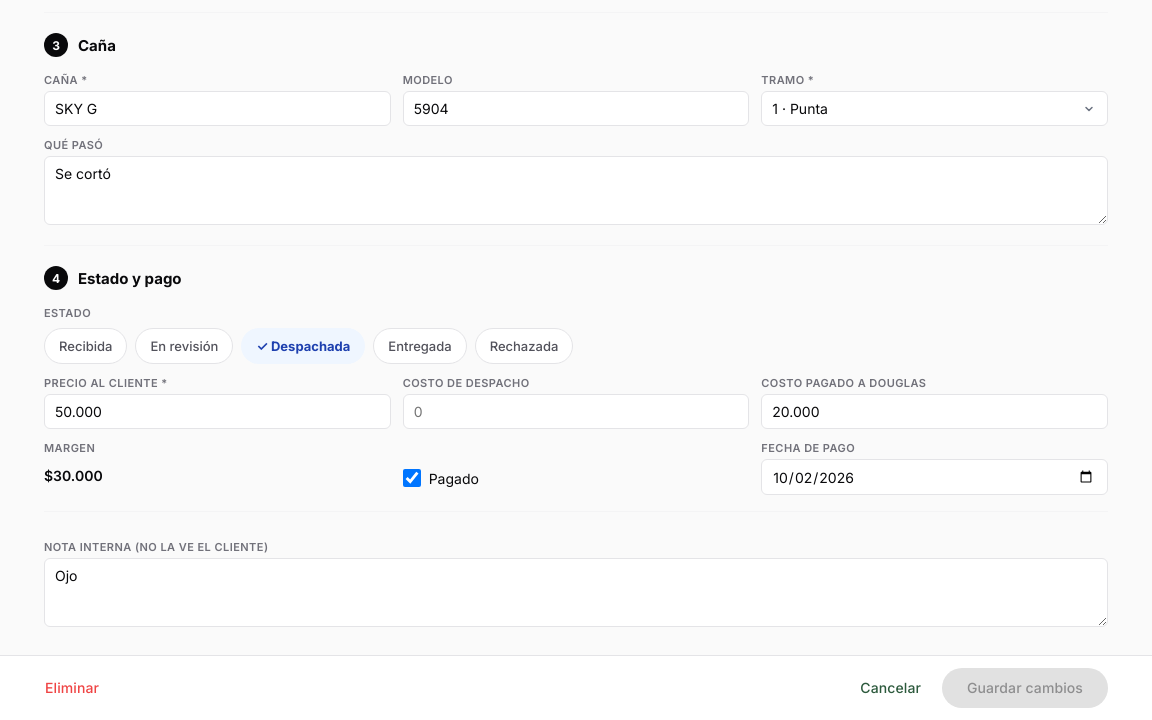
it: GarantiaFicha — eliminar, restaurar y conflicto › si eliminar falla, muestra el error y la ficha sigue abierta
(page scrolled)
Click the button "Eliminar" at coordinates (72, 688), box top-left (32, 668), bottom-right (112, 708)
(page scrolled)
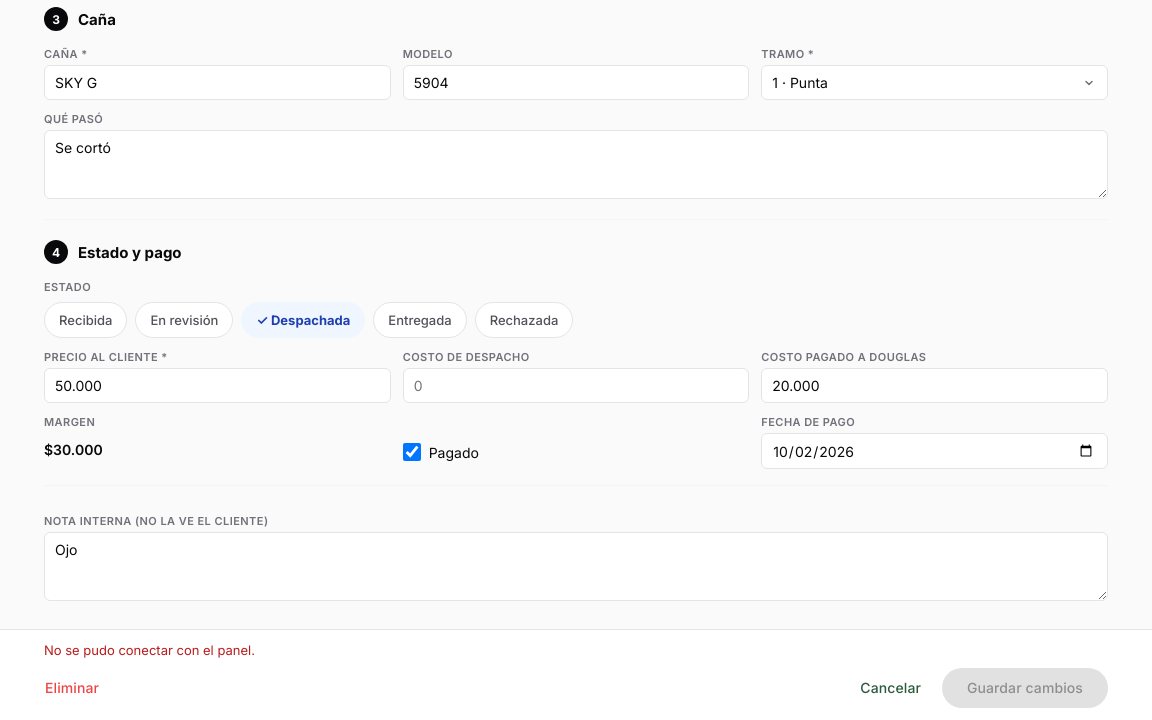
expect the message "No se pudo conectar con el panel." is shown: met, box top-left (44, 642), bottom-right (255, 658)
